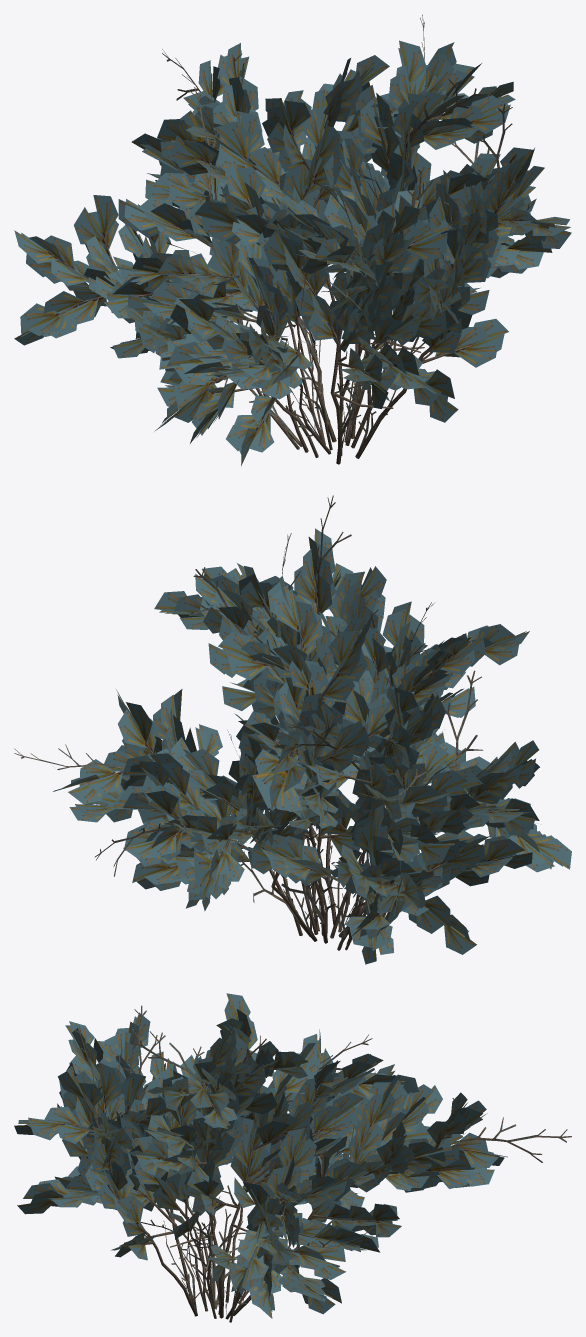
File: struik_laag.gltf
The picture shows the model from 3 angles, top to bottom: view 1: azimuth 30°, elevation 25°; view 2: azimuth 150°, elevation 25°; view 3: azimuth 270°, elevation 25°; orthographic projection. The views are drawn at different scales.
Visible parts, largest first — view 1: wild_rooibos_bush_a; view 2: wild_rooibos_bush_a; view 3: wild_rooibos_bush_a.
Boxes of the visible parts, x1,y1,x2,y2 form: wild_rooibos_bush_a: [14, 14, 571, 466]; wild_rooibos_bush_a: [14, 495, 571, 964]; wild_rooibos_bush_a: [14, 993, 571, 1322].
Size of the model in its own units: 0.6966 by 0.5395 by 0.8434.
Materials: 2 (2 with a texture image).
